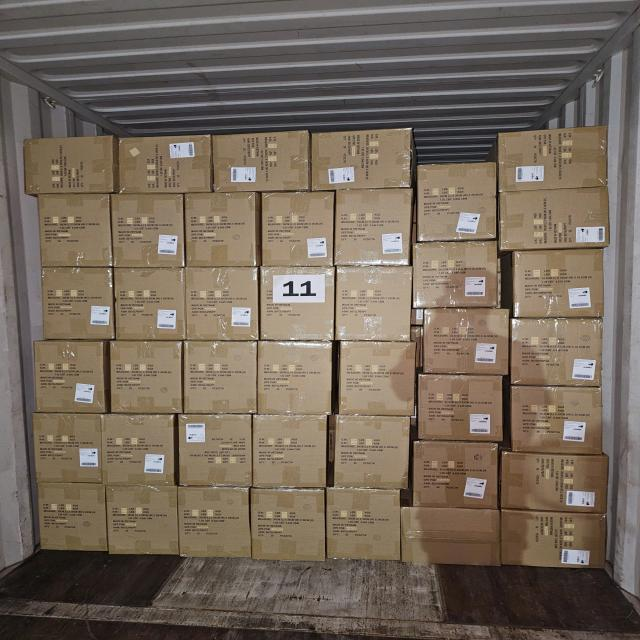Carton: (498, 126, 610, 191), (499, 188, 610, 252), (512, 249, 606, 320), (503, 454, 614, 514), (511, 385, 605, 455), (510, 319, 604, 388), (503, 511, 610, 570), (399, 507, 500, 569), (421, 162, 499, 242), (312, 130, 413, 191), (415, 374, 503, 444), (412, 440, 499, 510), (335, 186, 411, 266), (214, 130, 312, 192), (412, 241, 498, 310), (336, 339, 414, 415), (334, 266, 412, 342), (420, 309, 508, 376), (260, 266, 336, 342), (259, 341, 334, 417), (102, 415, 178, 490), (332, 417, 408, 492), (111, 192, 186, 268), (252, 416, 328, 491), (111, 268, 186, 344), (184, 190, 259, 266), (260, 189, 334, 266), (326, 487, 403, 561), (40, 264, 114, 341), (184, 264, 258, 341), (121, 133, 214, 194), (109, 341, 184, 416), (184, 341, 260, 415), (178, 416, 254, 490), (35, 340, 109, 415), (39, 192, 114, 266), (251, 488, 327, 561), (179, 486, 254, 559), (32, 413, 105, 487), (24, 140, 116, 198), (107, 489, 181, 560), (37, 483, 109, 555)
